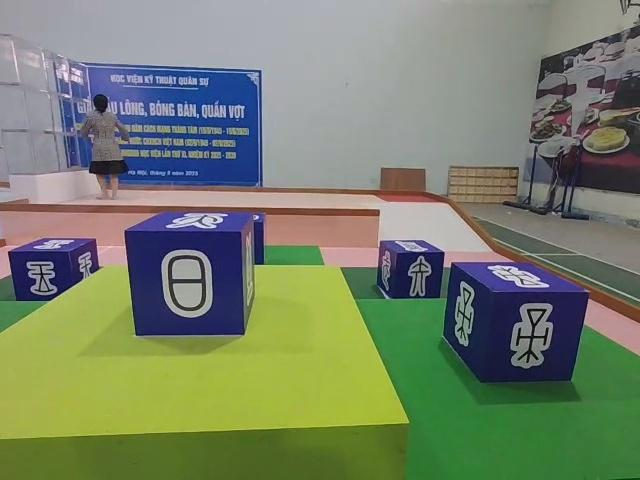R2 Fake Blue: (377, 240, 445, 301)
R2 Real Blue: (445, 262, 587, 384), (124, 212, 254, 338), (8, 238, 101, 303)
